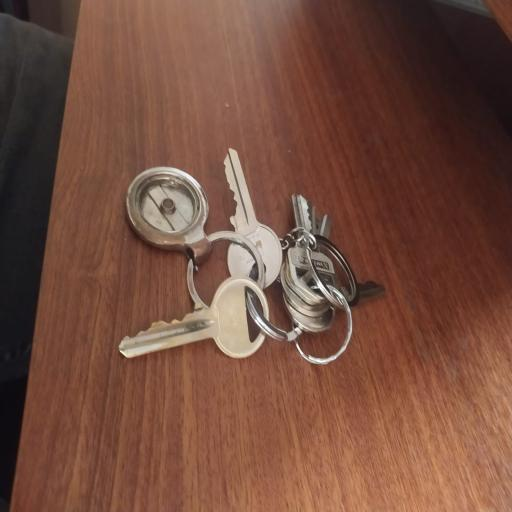Llaves: (110, 136, 390, 386)
